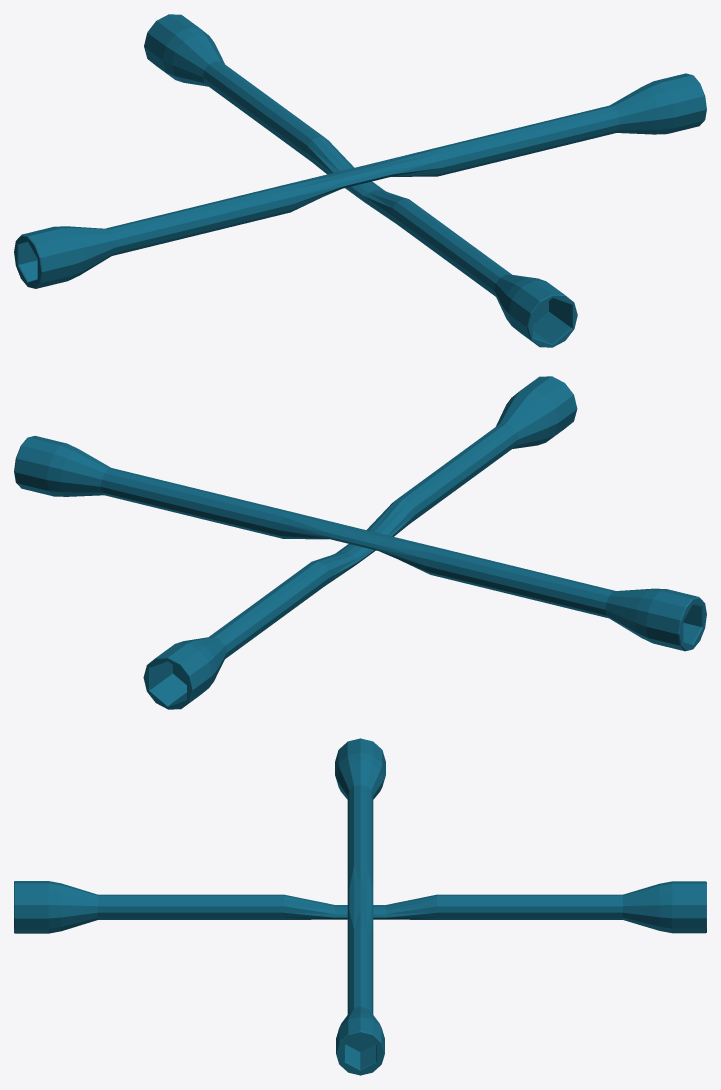
3 renders of one model, top to bottom at view 1: azimuth 30°, elevation 25°; view 2: azimuth 150°, elevation 25°; view 3: azimuth 270°, elevation 25°, orthographic. The views are drawn at different scales.
Visible parts, largest first — view 1: Fixed_welded_cross_with_four_open_hex_sockets; view 2: Fixed_welded_cross_with_four_open_hex_sockets; view 3: Fixed_welded_cross_with_four_open_hex_sockets.
Part boxes in pixels (x1,y1,x2,y2): Fixed_welded_cross_with_four_open_hex_sockets: (14, 14, 706, 347); Fixed_welded_cross_with_four_open_hex_sockets: (14, 376, 706, 709); Fixed_welded_cross_with_four_open_hex_sockets: (14, 738, 706, 1075).
Size of the model in its own units: 0.38 by 0.029 by 0.38.
